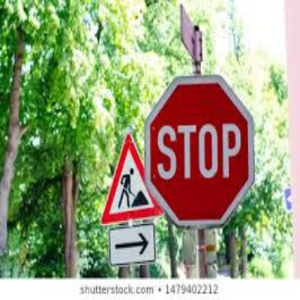STOP_SIGN: (144, 75, 254, 224)
